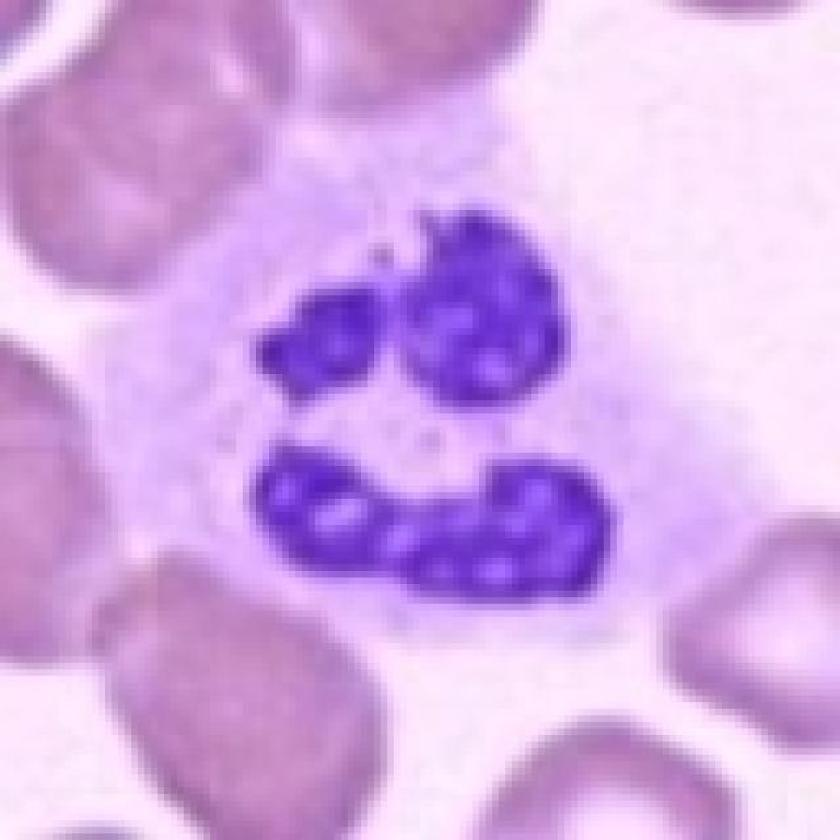neutrophil: (152, 186, 760, 688)
